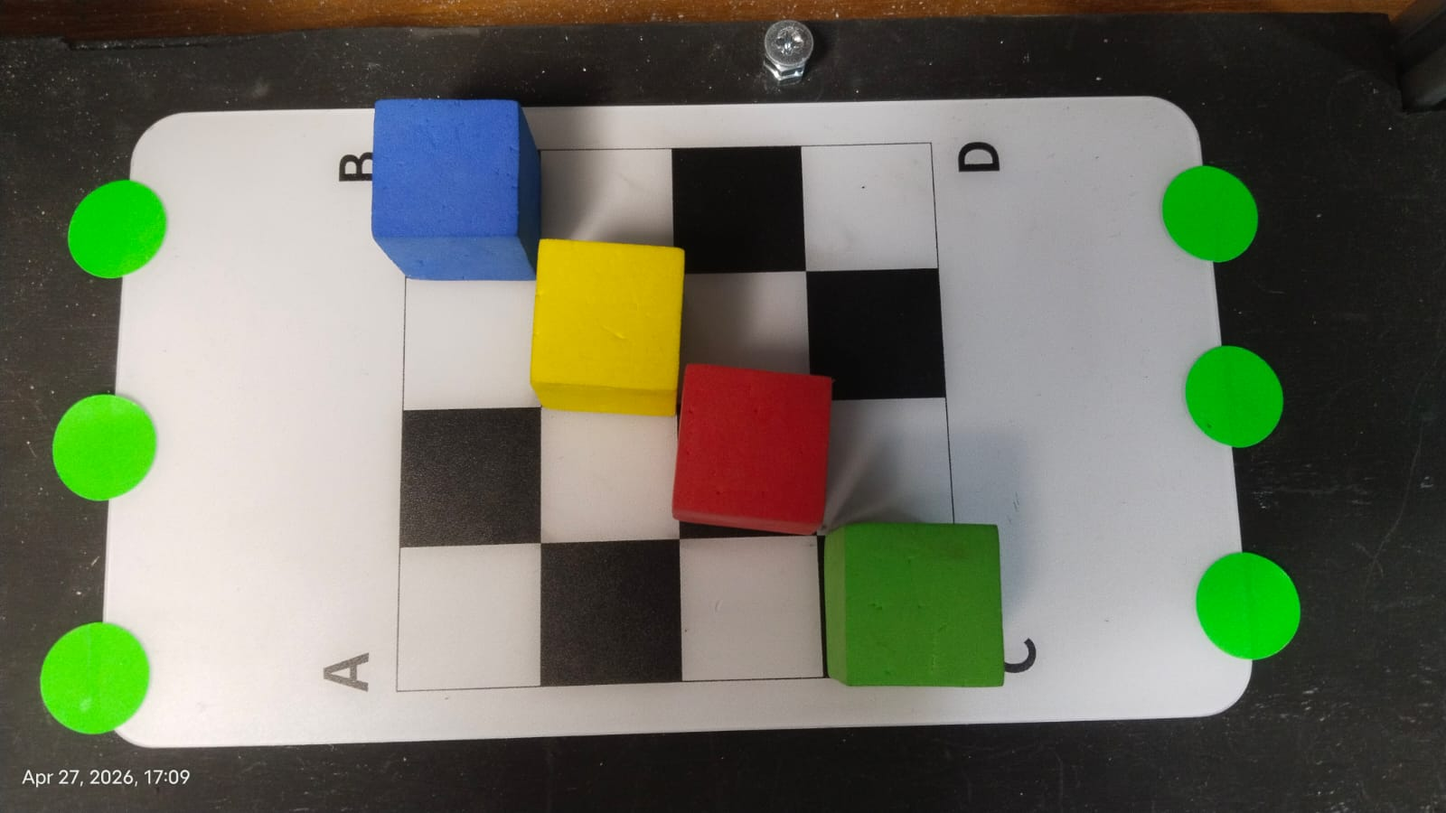blue: (365, 91, 542, 287)
green: (807, 506, 1016, 693)
red: (666, 345, 840, 541)
yellow: (517, 232, 691, 414)
